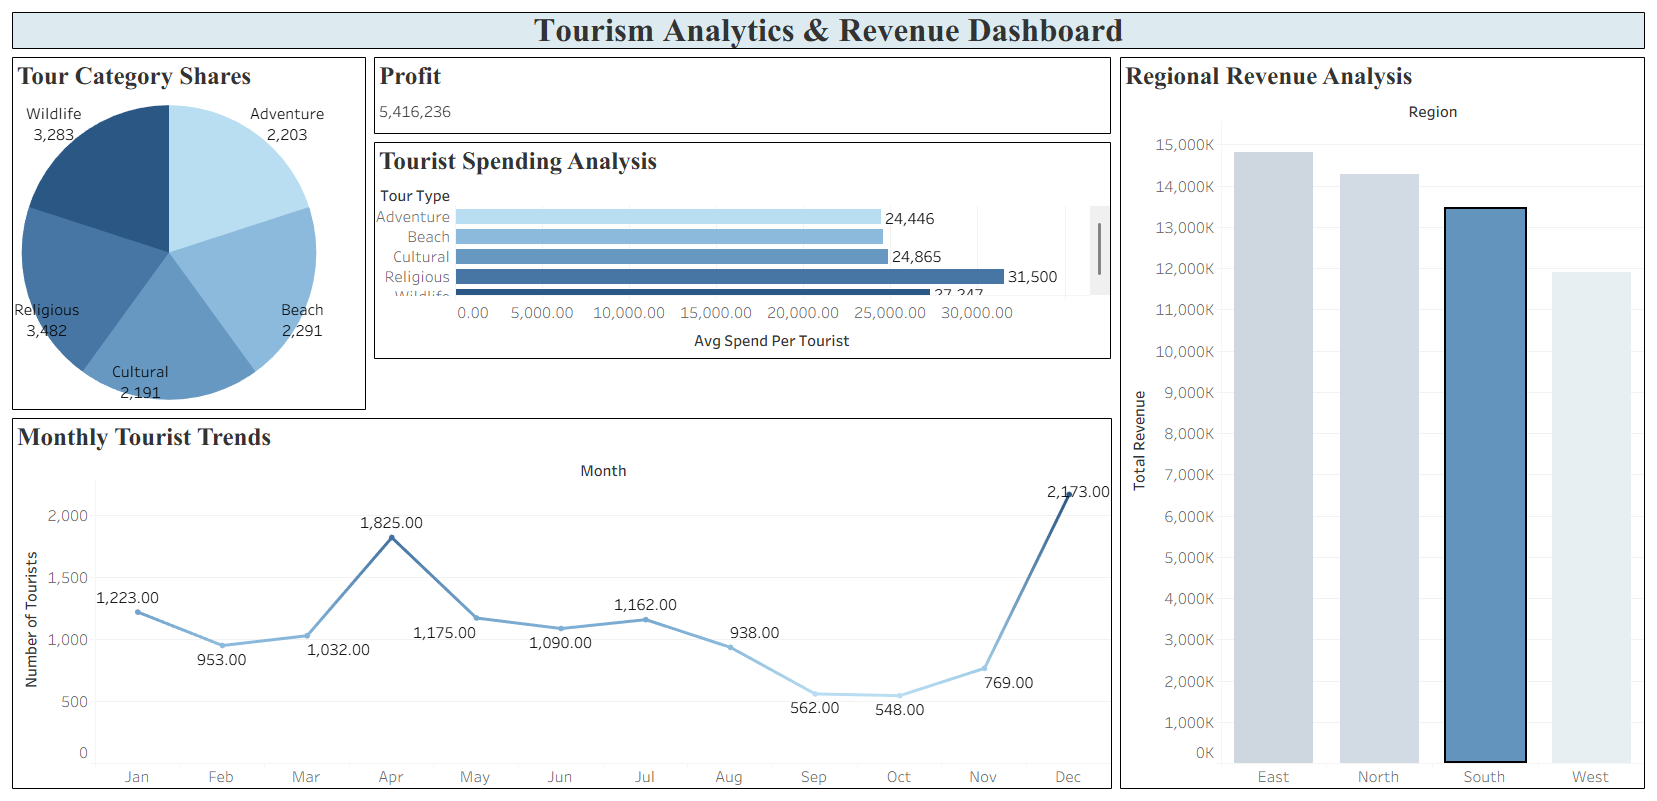

What the dashboard file says about the page in this screenshot:
{"tool":"tableau","page":{"name":"Dashboard 1","canvas":[1000,1000],"units":"permille","ordinal":0},"visuals":[{"type":"title","box":[4.8,10,990.3,56.2]},{"type":"worksheet","title":"Categories in Tours","mark":"Pie","box":[4.8,66.2,218.5,450.7]},{"type":"worksheet","title":"Profit","mark":"Automatic","box":[223.3,66.2,449.6,106.1]},{"type":"worksheet","title":"Revenue by Region","mark":"Automatic","rows":["Total_Revenue"],"cols":["Region"],"box":[673.5,66.2,321.7,923.8]},{"type":"worksheet","title":"spend per tourist","mark":"Automatic","rows":["Tour_Type"],"cols":["Avg_Spend_Per_Tourist"],"box":[223.3,172.3,449.6,280.9]},{"type":"worksheet","title":"Trend line of tourist","mark":"Line","rows":["Number_of_Tourists"],"cols":["Month"],"box":[4.8,516.9,668.7,473.2]}]}

Visuals, with their boxes on the dashboard's canvas, which has no fixed pixel size, in thousandths of its width and height (x1, y1, x2, y2). These are canvas units, not pixel positions in the 1657x801 screenshot, which may show the page scaled, cropped or inside an application window:
title: <box>5,10,995,66</box>
"Categories in Tours" worksheet (Pie marks): <box>5,66,223,517</box>
"Profit" worksheet: <box>223,66,673,172</box>
"Revenue by Region" worksheet: <box>674,66,995,990</box>
"spend per tourist" worksheet: <box>223,172,673,453</box>
"Trend line of tourist" worksheet (Line marks): <box>5,517,674,990</box>
